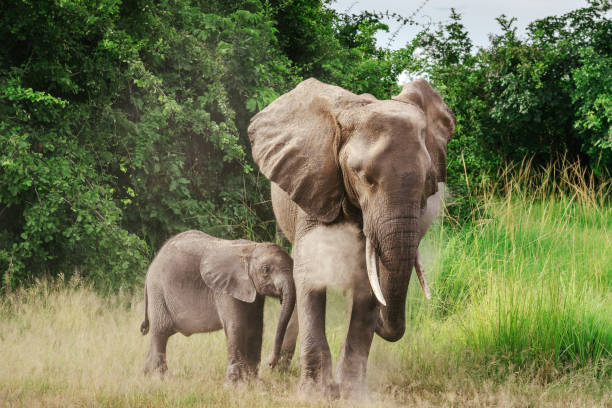africanelephant: (321, 91, 437, 309)
